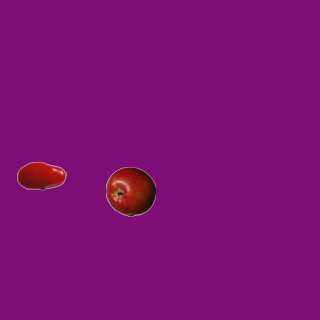Apple Braeburn: (105, 166, 155, 216)
Tomato 2: (16, 150, 66, 200)
